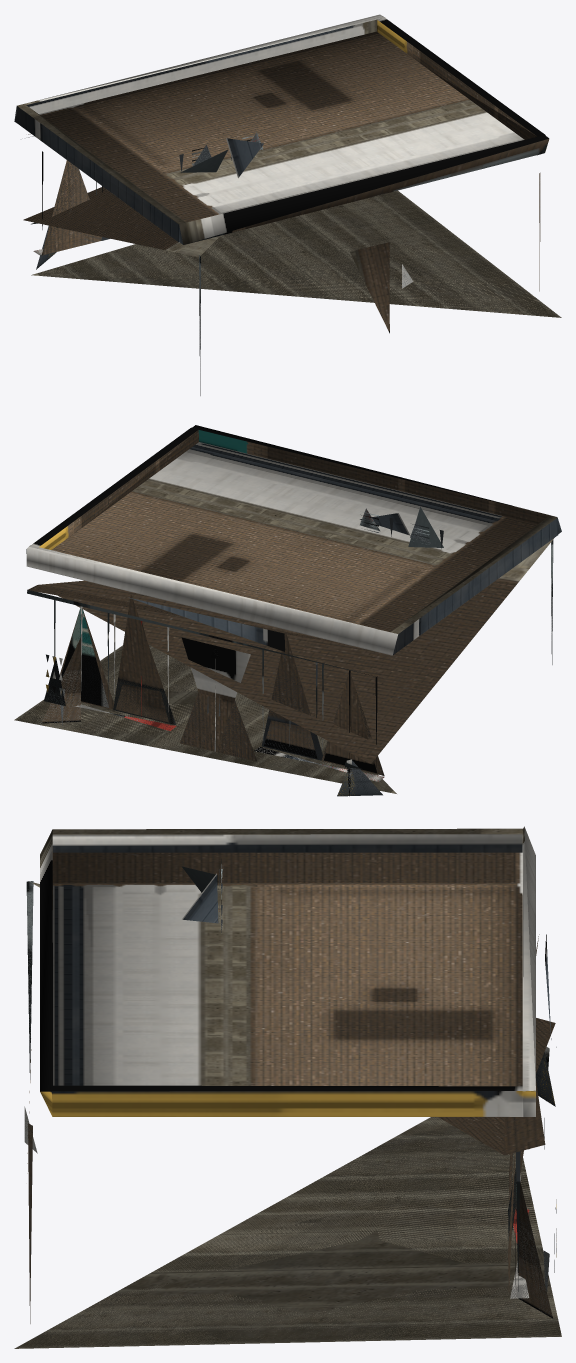
Rendered from shop_001.lod2.obj.
3 renders of one model, top to bottom at view 1: azimuth 30°, elevation 25°; view 2: azimuth 150°, elevation 25°; view 3: azimuth 270°, elevation 25°, orthographic. The views are drawn at different scales.
Parts seen in each view (by area): view 1: shop_001; view 2: shop_001; view 3: shop_001.
Part boxes in pixels (<box>): shop_001: <box>14,14,561,395</box>; shop_001: <box>14,425,561,796</box>; shop_001: <box>14,826,561,1348</box>.
Bounding box in the file's own units: 7.8 × 3.9 × 6.8.
1 material, 1 textured.
